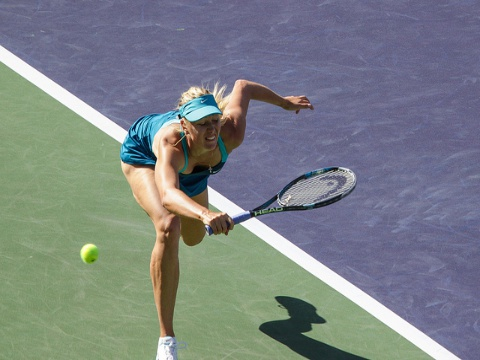hand: (202, 212, 235, 237), (282, 93, 315, 116)
